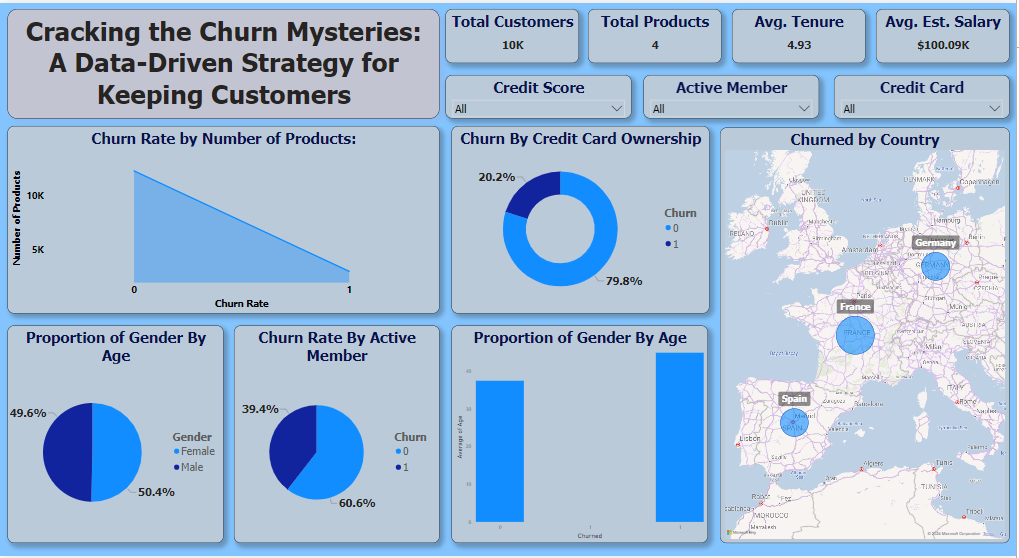

The page's visual inventory and layout, read from the dashboard file:
{"tool":"powerbi","page":{"name":"BANK CUSTOMER CHURN","canvas":[2280,1240],"ordinal":0},"visuals":[{"type":"textbox","box":[16.8,13.5,969.5,245.7],"z":0},{"type":"pieChart","title":"Proportion of Gender By Age","fields":{"Y":["Avg(churn.Age)"],"Category":["churn.Gender"]},"box":[16.8,723.7,484.7,488.1],"z":1000},{"type":"card","title":"Total Customers","fields":{"Values":["churn.Total Customers"]},"box":[999.8,13.5,299.6,121.2],"z":2000},{"type":"pieChart","title":"Churn Rate By Active Member","fields":{"Y":["Avg(churn.IsActiveMember)"],"Category":["churn.Churned"]},"box":[525.1,723.7,461.2,488.1],"z":3000},{"type":"card","title":"Total Products","fields":{"Values":["churn.Total Products"]},"box":[1319.5,13.5,299.6,121.2],"z":4000},{"type":"card","title":"Avg. Tenure","fields":{"Values":["churn.Average Tenure of Churned Customers"]},"box":[1642.7,13.5,299.6,121.2],"z":5000},{"type":"columnChart","title":"Proportion of Gender By Age","fields":{"Category":["churn.Churned"],"Y":["Avg(churn.Age)"]},"box":[1013.2,723.7,575.6,488.1],"z":6000},{"type":"areaChart","title":"Churn Rate by Number of Products:","fields":{"Category":["churn.Churned"],"Y":["Sum(churn.NumOfProducts)"]},"box":[16.8,276,969.5,420.8],"z":7000},{"type":"card","title":"Avg. Est. Salary","fields":{"Values":["Avg(churn.EstimatedSalary)"]},"box":[1965.8,13.5,299.6,121.2],"z":8000},{"type":"donutChart","title":"Churn By Credit Card Ownership","fields":{"Category":["churn.Churned"],"Y":["Sum(churn.HasCrCard)"]},"box":[1013.2,276,579,420.8],"z":9000},{"type":"map","title":"Churned by Country","fields":{"Category":["churn.Geography"],"Size":["CountNonNull(churn.Churned)"]},"box":[1615.8,279.4,649.7,932.4],"z":10000},{"type":"slicer","title":"Credit Score","fields":{"Values":["churn.CreditScore"]},"box":[999.8,161.6,417.4,97.6],"z":11000},{"type":"slicer","title":"Active Member","fields":{"Values":["churn.IsActiveMember"]},"box":[1444.1,161.6,393.8,97.6],"z":12000},{"type":"slicer","title":"Credit Card","fields":{"Values":["churn.HasCrCard"]},"box":[1871.6,161.6,393.8,97.6],"z":13000}]}

Visuals, with their boxes in screenshot pixels (x1, y1, x2, y2), scaled from the page's 2280x1240 canvas onto the 1019x558 screenshot:
textbox: Rect(8, 6, 441, 117)
"Proportion of Gender By Age" pieChart: Rect(8, 326, 224, 545)
"Total Customers" card: Rect(447, 6, 581, 61)
"Churn Rate By Active Member" pieChart: Rect(235, 326, 441, 545)
"Total Products" card: Rect(590, 6, 724, 61)
"Avg. Tenure" card: Rect(734, 6, 868, 61)
"Proportion of Gender By Age" columnChart: Rect(453, 326, 710, 545)
"Churn Rate by Number of Products:" areaChart: Rect(8, 124, 441, 314)
"Avg. Est. Salary" card: Rect(879, 6, 1012, 61)
"Churn By Credit Card Ownership" donutChart: Rect(453, 124, 712, 314)
"Churned by Country" map: Rect(722, 126, 1013, 545)
"Credit Score" slicer: Rect(447, 73, 633, 117)
"Active Member" slicer: Rect(645, 73, 821, 117)
"Credit Card" slicer: Rect(836, 73, 1012, 117)
